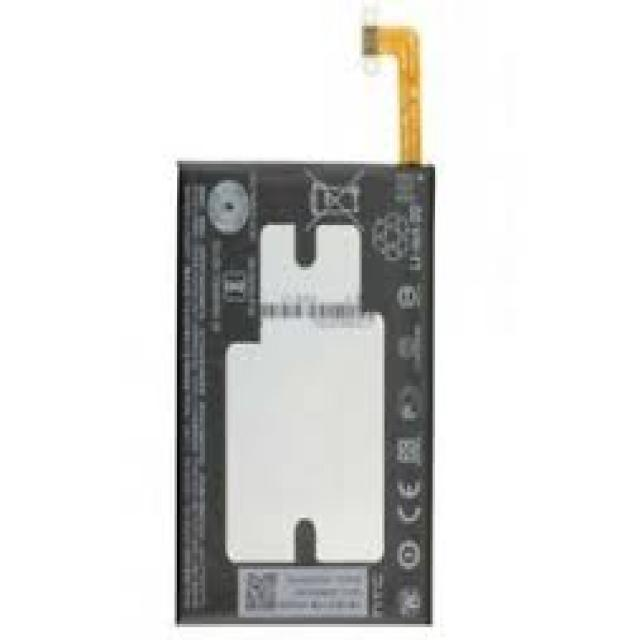non-organic waste: (174, 21, 435, 624)
